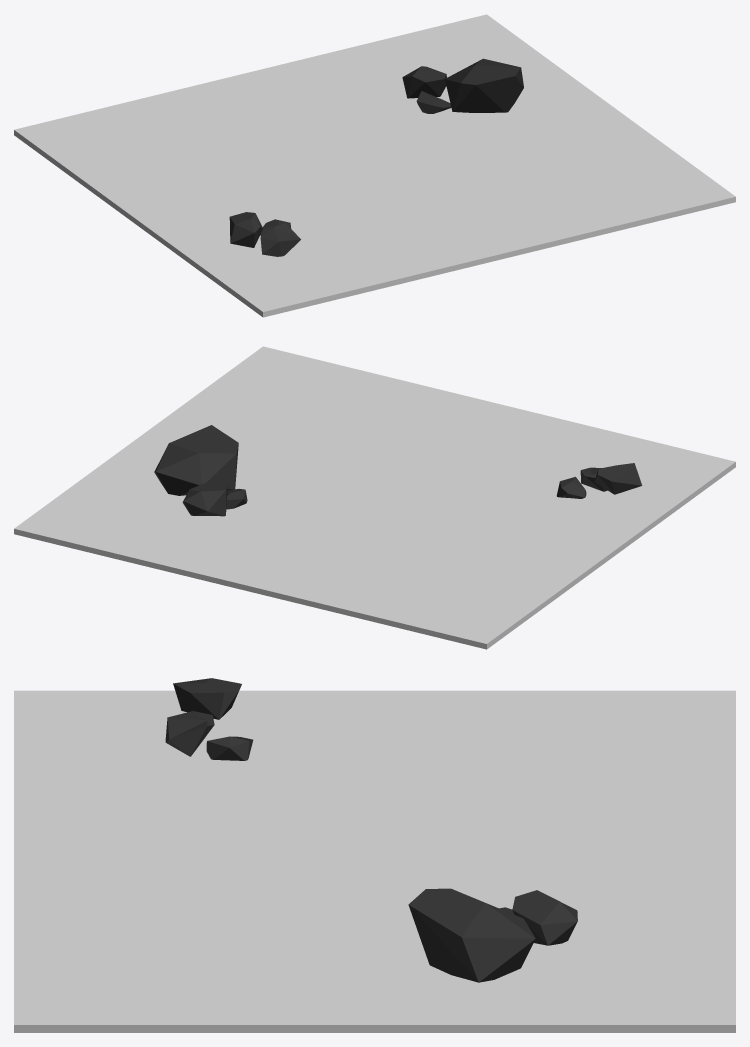
The model's file is floor_1.obj.
3 views of the same model, one above another, from view 1: azimuth 30°, elevation 25°; view 2: azimuth 150°, elevation 25°; view 3: azimuth 270°, elevation 25° (orthographic). The views are drawn at different scales.
Parts seen in each view (by area): view 1: floor_1, rock_1, rock_3, rock_5, rock_4, rock_2; view 2: floor_1, rock_1, rock_3, rock_4, rock_6; view 3: floor_1, rock_1, rock_3, rock_4, rock_5, rock_6.
Boxes of the visible parts, <box> form: floor_1: <box>14,14,735,317</box>; rock_1: <box>445,58,523,112</box>; rock_3: <box>402,66,446,98</box>; rock_5: <box>260,223,300,256</box>; rock_4: <box>229,212,262,247</box>; rock_2: <box>416,91,451,113</box>; floor_1: <box>14,346,735,649</box>; rock_1: <box>154,425,238,495</box>; rock_3: <box>182,480,227,516</box>; rock_4: <box>594,463,642,494</box>; rock_6: <box>556,476,586,498</box>; floor_1: <box>14,690,735,1032</box>; rock_1: <box>408,888,535,982</box>; rock_3: <box>512,890,577,945</box>; rock_4: <box>173,678,241,719</box>; rock_5: <box>165,711,214,756</box>; rock_6: <box>206,736,253,760</box>.
Size of the model in its own units: 1.53 by 0.1564 by 1.4.
